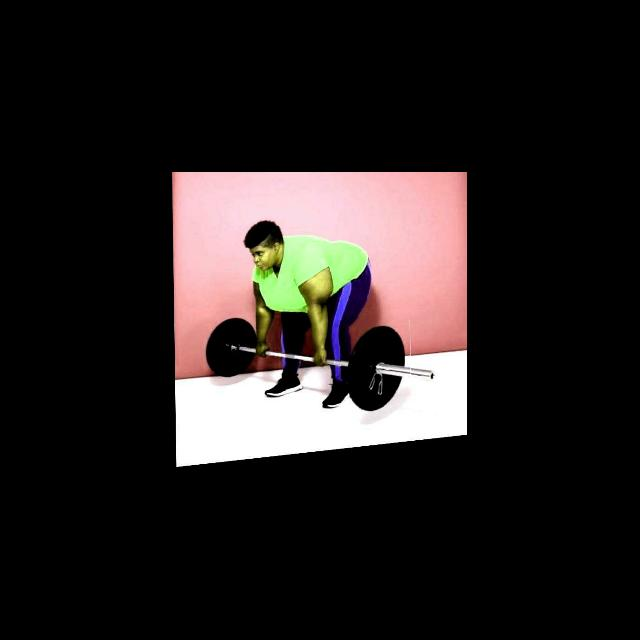barbell: (340, 325, 411, 424)
